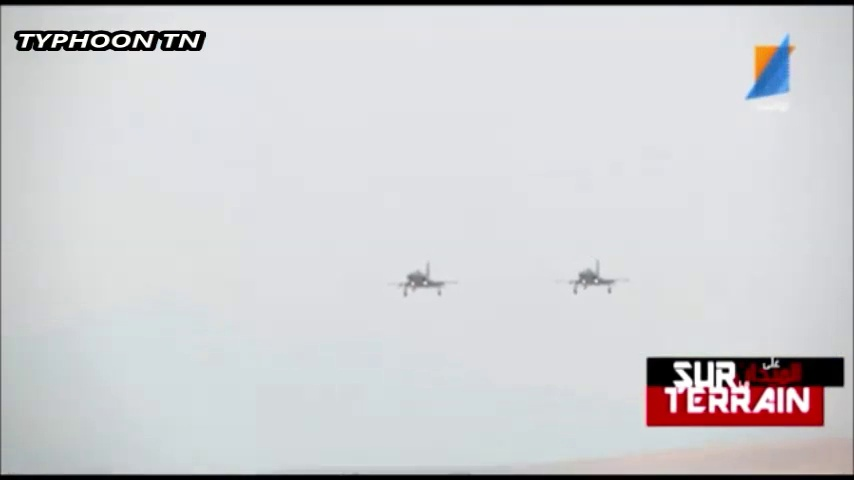Airplane: (384, 261, 453, 296), (563, 263, 629, 293)
